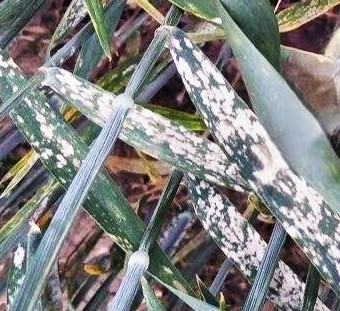Powdery Mildew: (196, 188, 274, 281), (15, 88, 83, 185)
